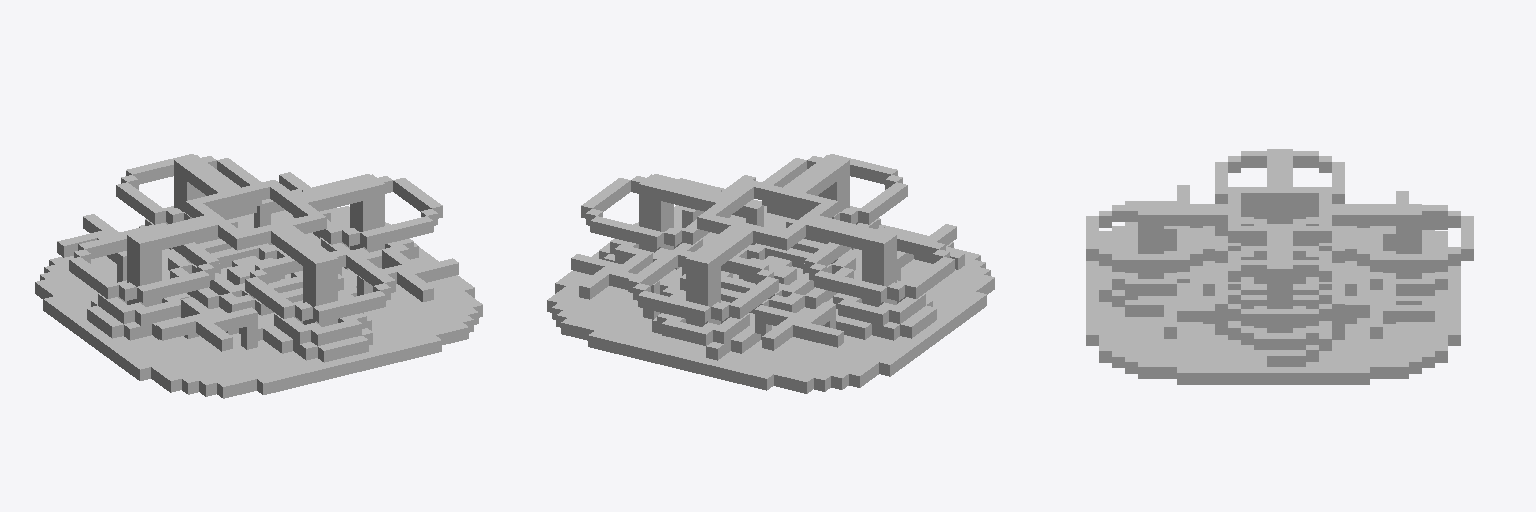
The model's file is BuffBuilding-1-Centure.obj.
3 renders of one model, left to right at view 1: azimuth 30°, elevation 25°; view 2: azimuth 150°, elevation 25°; view 3: azimuth 270°, elevation 25°, orthographic.
Visible parts, largest first — view 1: Centure; view 2: Centure; view 3: Centure.
Boxes of the visible parts, box(x1,y1,x2,y2) form: Centure: box(35, 154, 482, 398); Centure: box(547, 154, 994, 393); Centure: box(1086, 149, 1473, 384).
Bounding box in the file's own units: 3 × 0.8 × 3.